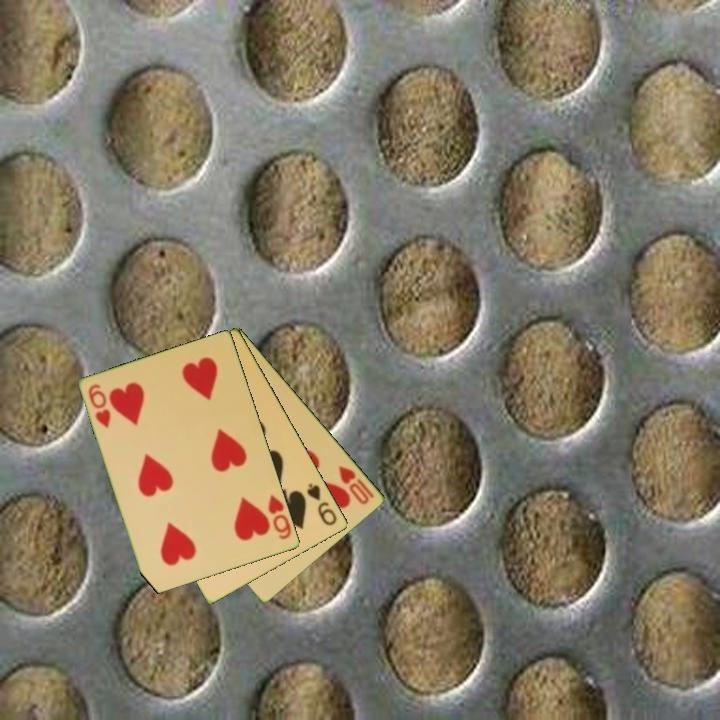10h: (335, 462, 378, 507)
6h: (265, 491, 294, 542), (85, 380, 114, 431)
9s: (304, 480, 340, 529)
